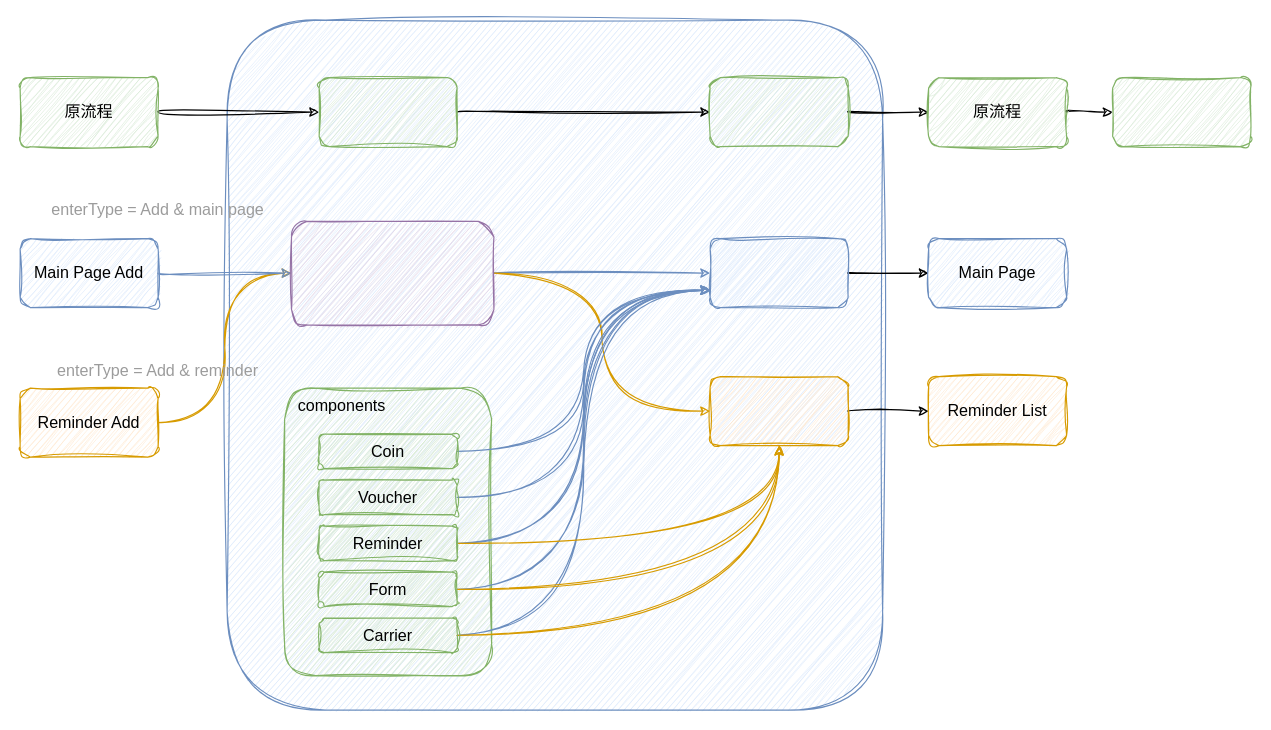
This 1271x730 diagram has some shape labels left out. Each missing label, with the centre of its shape:
Bill Center Transfer: point 392,272
Main Page Add Component: point 778,272
PDP index.tsx: point 387,111
Reminder Add Component: point 778,410
下单: point 1181,111
原 PDP Component: point 778,111
